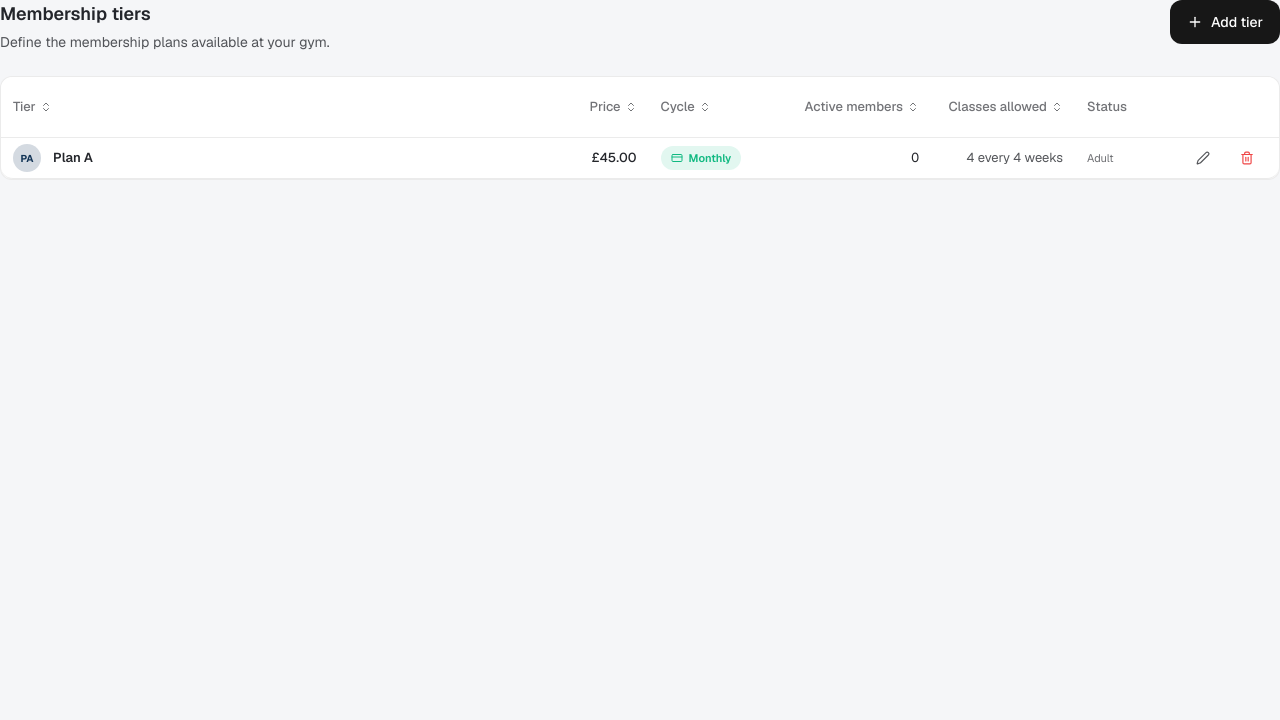
the class allowance in the tier editor › an every-4-weeks allowance opens as saved, start date included
Click the button named "Edit Plan A" at (1203, 158), box [1183,142,1223,174]
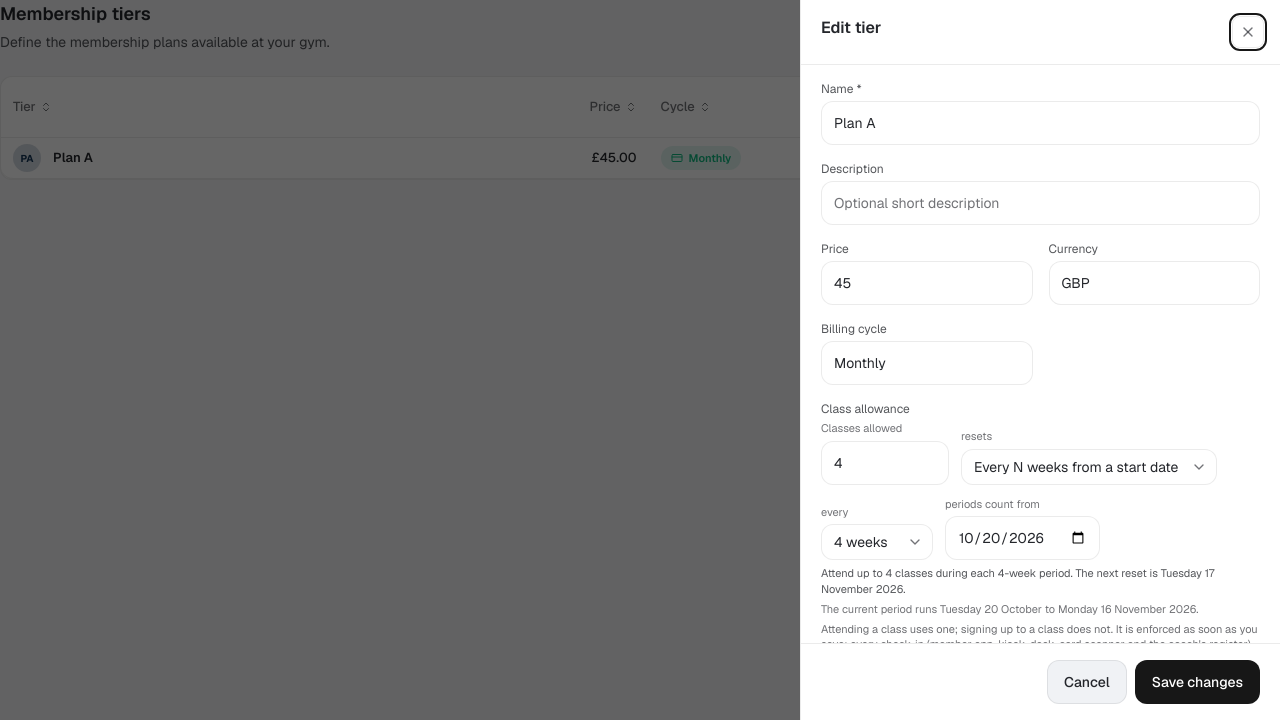
Result: the field labelled "Classes allowed" holds "4" at [821,441,949,485]
Result: the dropdown labelled "resets" shows "Every N weeks from a start date" at [961,449,1217,485]
Result: the dropdown named "every (weeks)" shows "4 weeks" at [821,524,933,560]
